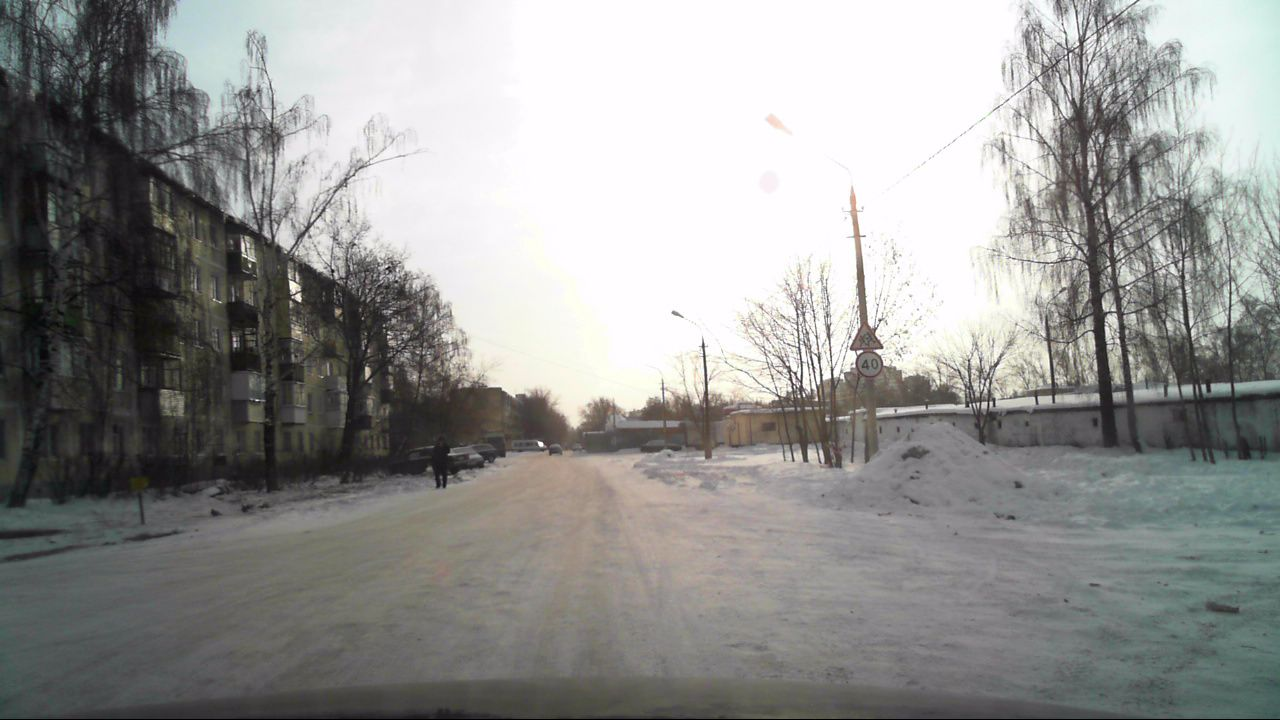speed_warning_40: (856, 351, 882, 376)
